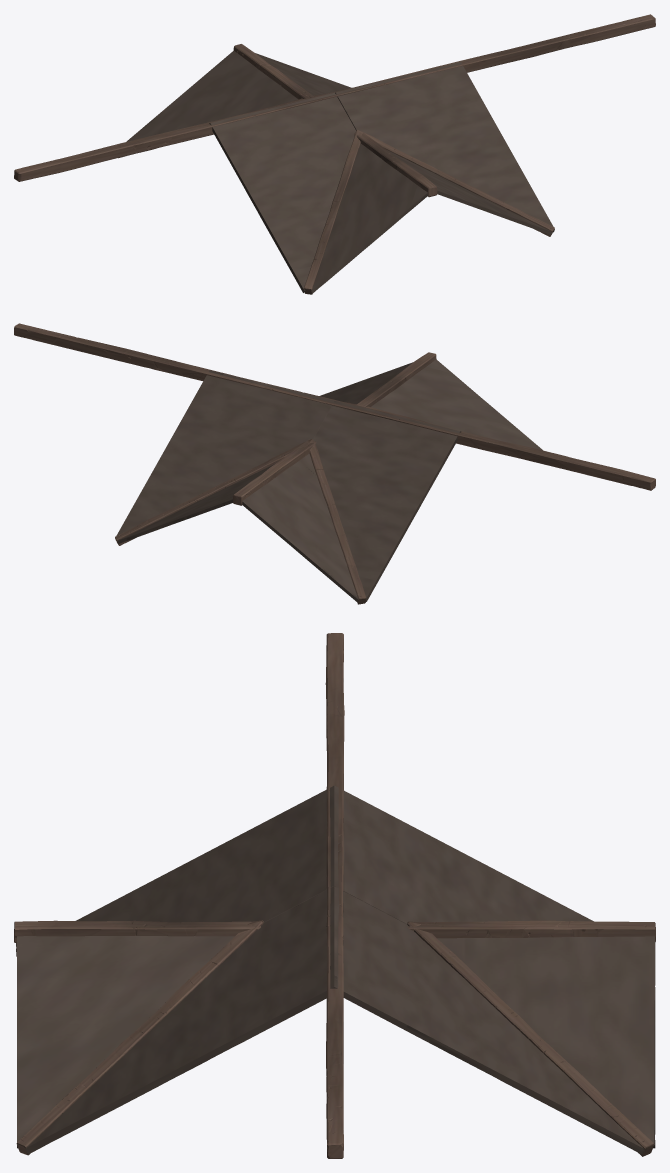
Rendered from roof.fbx.
3 views of the same model, one above another, from view 1: azimuth 30°, elevation 25°; view 2: azimuth 150°, elevation 25°; view 3: azimuth 270°, elevation 25° (orthographic). The views are drawn at different scales.
Visible parts, largest first — view 1: roof.060, PARRU; view 2: roof.060, PARRU; view 3: roof.060, PARRU.
Boxes of the visible parts, box(x1,y1,x2,y2) form: roof.060: box(126, 50, 554, 293); PARRU: box(14, 14, 655, 294); roof.060: box(115, 359, 542, 601); PARRU: box(14, 323, 655, 604); roof.060: box(16, 785, 655, 1154); PARRU: box(14, 633, 655, 1158).
Bounding box in the file's own units: 3587 × 561 × 1901.
2 materials, 2 textured.
